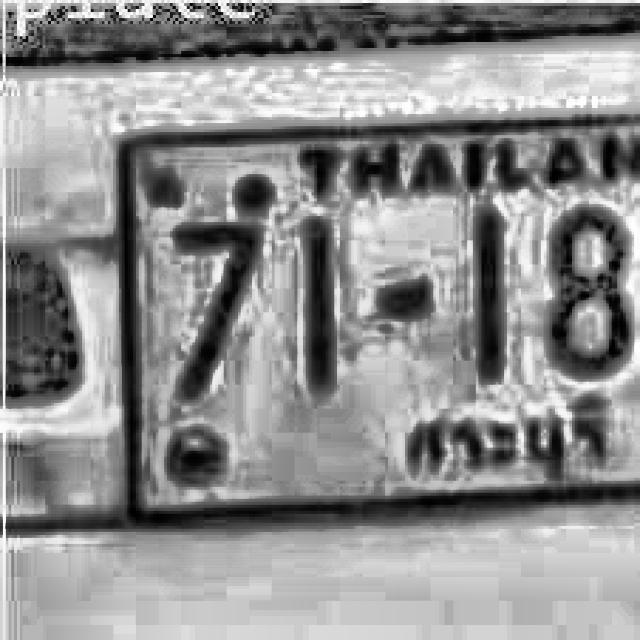license-plate: (93, 100, 640, 533)
